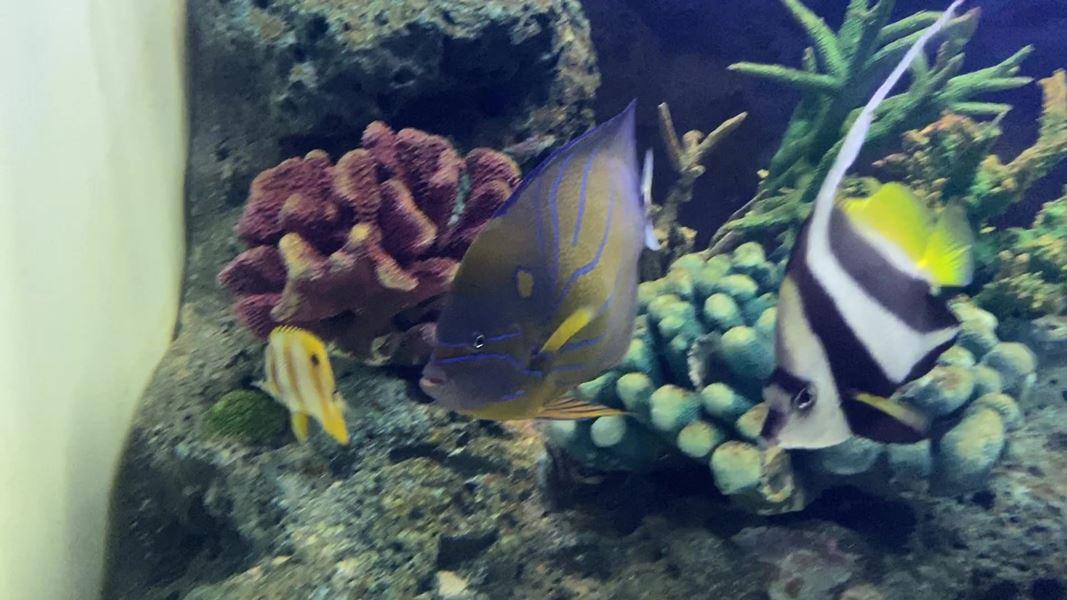Blue ring angelfish: (401, 88, 717, 441)
